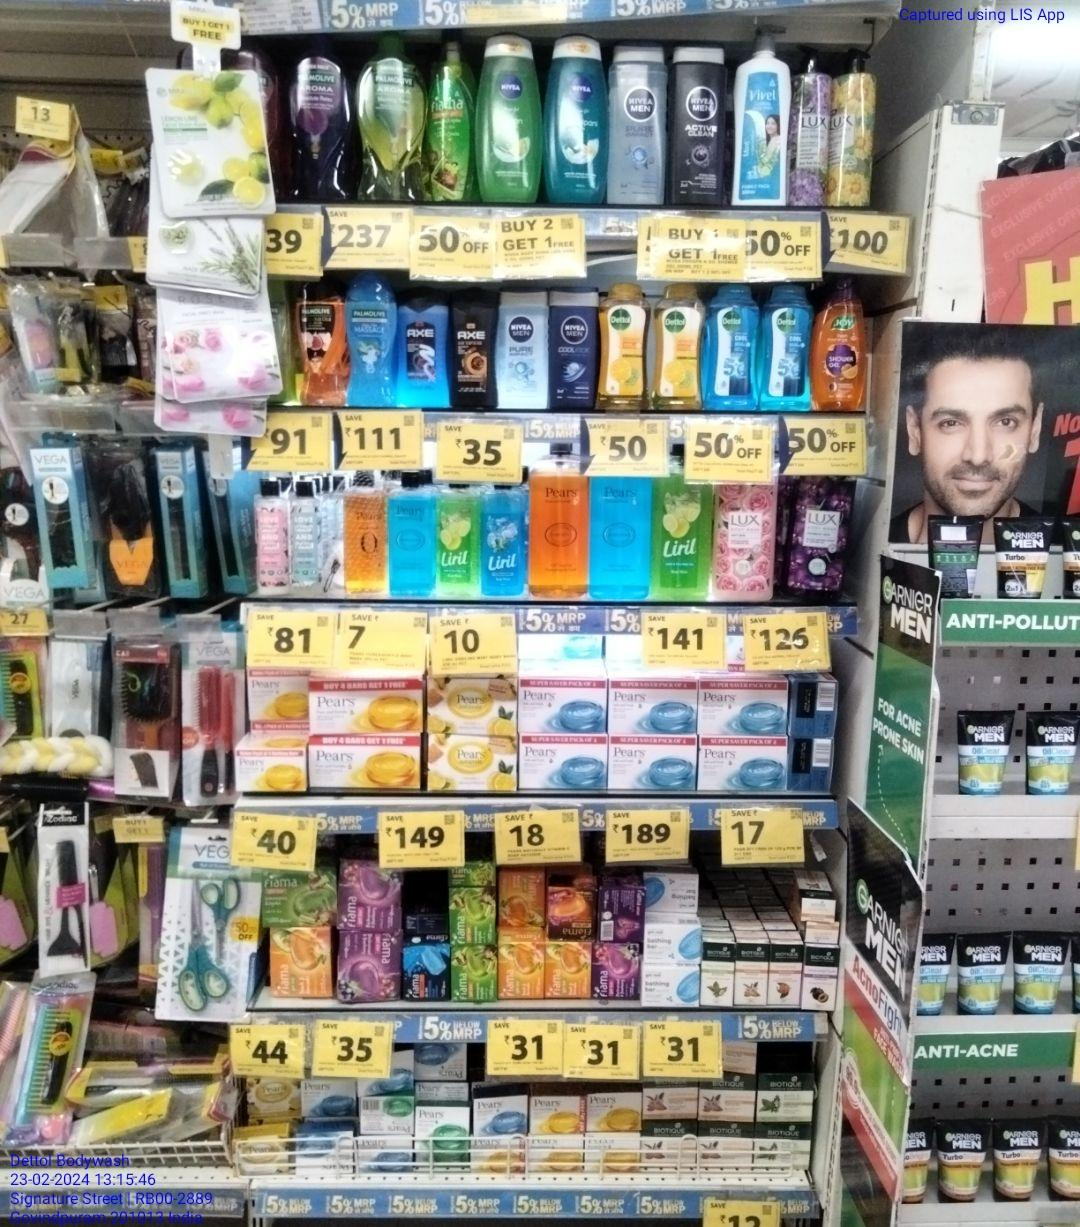Dettol_Bodywash_Cool: (761, 278, 814, 415), (706, 287, 757, 412)
Dettol_Bodywash_Refresh: (653, 276, 703, 408), (600, 278, 646, 411)
Joy_Shower_Gel_Mandarin_and_Lemongrass_250ML: (815, 278, 867, 415)
Liril_Cooling_Mint_Body_Wash_250ML: (479, 481, 522, 597)
Liril_Lime_and_Tea_Tree_Oil_Body_Wash_250ML: (436, 481, 476, 591)
Nivea_Shower_Gel_Frangipani_and_Oil_250ML: (545, 40, 613, 203)
Nivea_Shower_Gel_Lemon_and_Oil_250ML: (478, 37, 543, 208)
Palmolive_Aroma_Moments_Feel_The_Massage_Shower_Gel_250ML: (344, 279, 395, 407)
Palmolive_Luminous_Oils_With_White_Orchid_Shower_Gel_250ML: (296, 281, 341, 405)
Pears_Pure_Glycerin_and_Mint_Extracts_Body_Wash_250ML: (386, 475, 432, 598)
